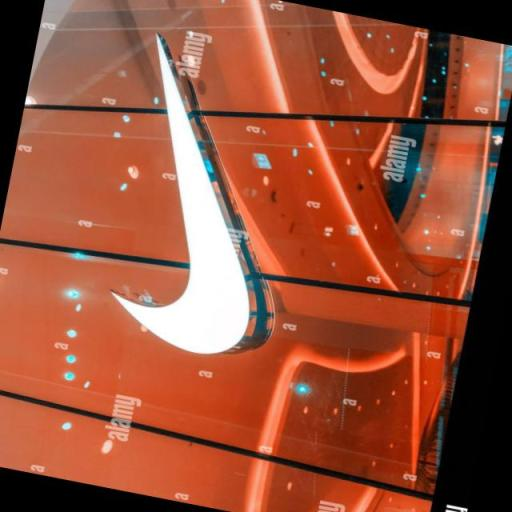Nike: (89, 21, 332, 382)
